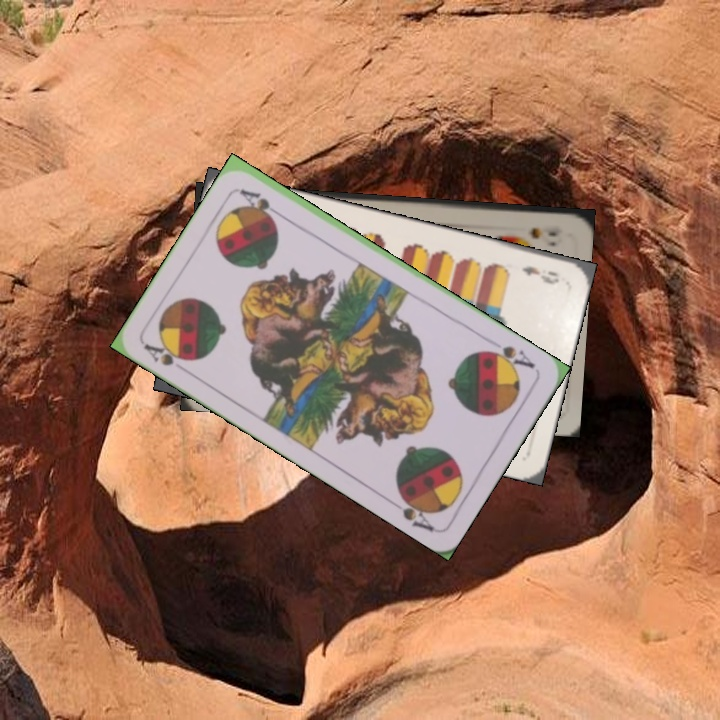E9: (518, 262, 562, 287)
S10: (524, 221, 565, 240)
SA: (139, 337, 196, 377), (481, 341, 538, 374)
